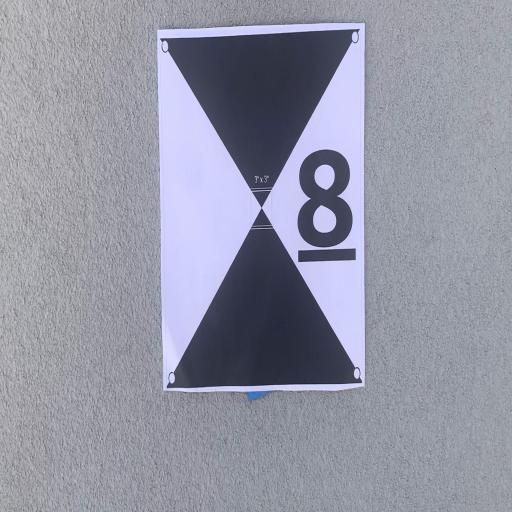target8: (157, 25, 365, 391)
